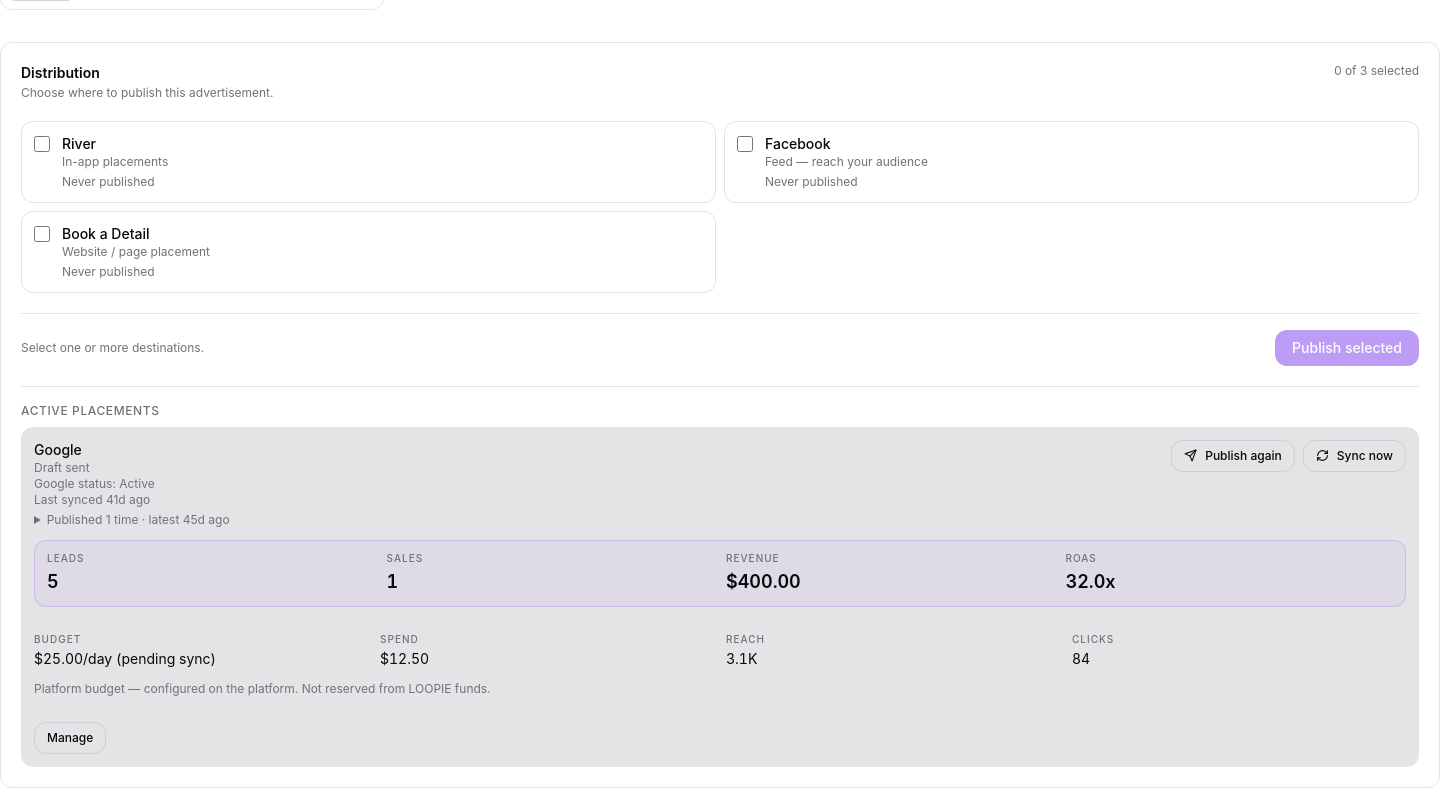
Scenario: AdPage › drives edit-mode consequence text purely from capabilities, not a platform-name branch
(page scrolled)
Click the button "Manage".
click(70, 738)  # box [34, 722, 106, 754]
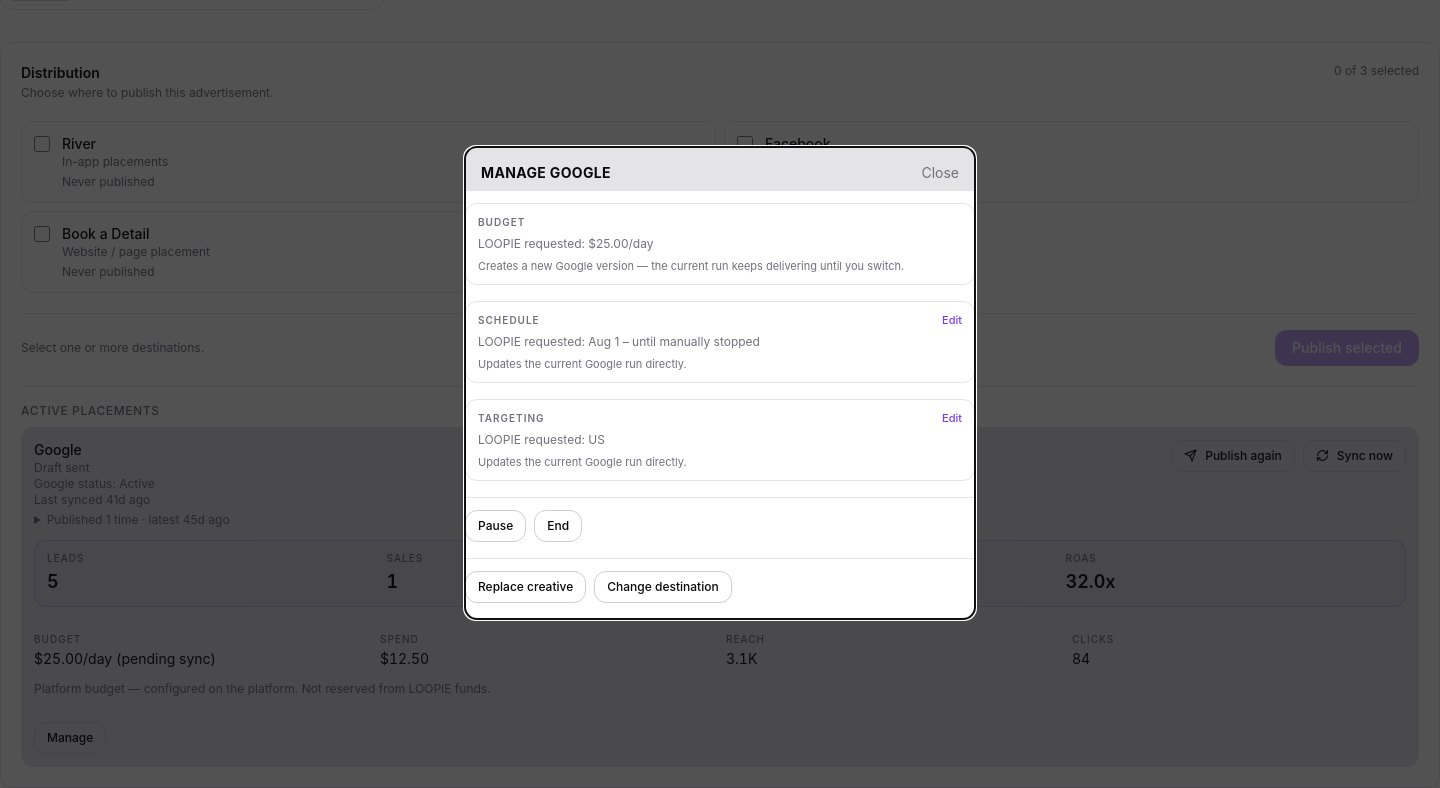
Result: the text "Creates a new Google version — the current run keeps delivering until you switch." is shown at [478, 259, 904, 273]
